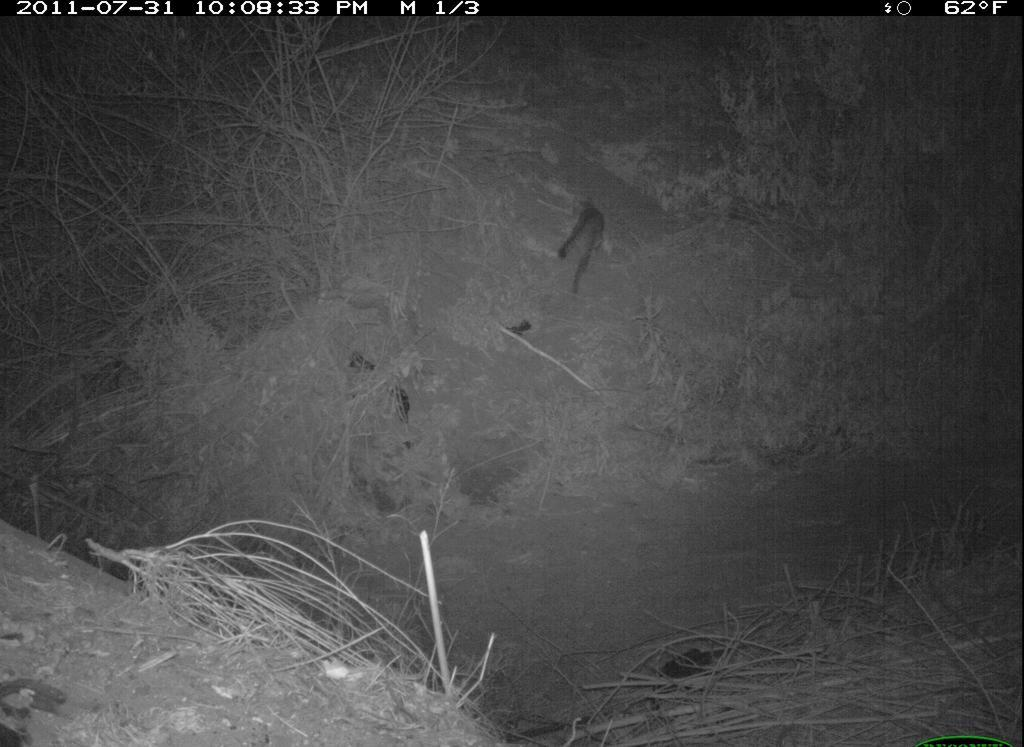cat: (542, 194, 623, 305)
